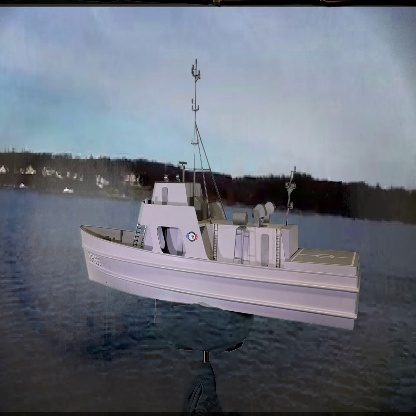YP689: (77, 59, 361, 332)
